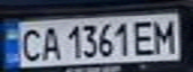1: (112, 19, 133, 57), (63, 21, 81, 60)
3: (78, 20, 100, 58)
6: (96, 20, 115, 58)
A: (36, 24, 63, 62)
C: (15, 26, 45, 63)
E: (130, 17, 160, 56)
M: (151, 16, 181, 55)
